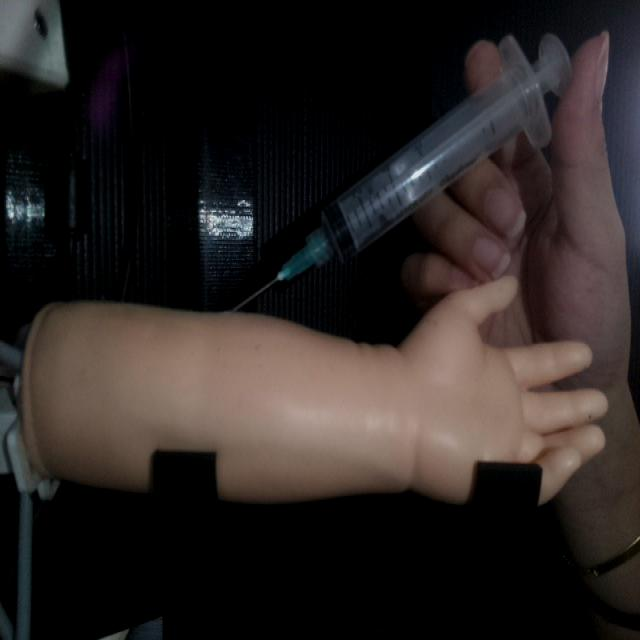Above 30 degrees: (226, 29, 573, 314)
